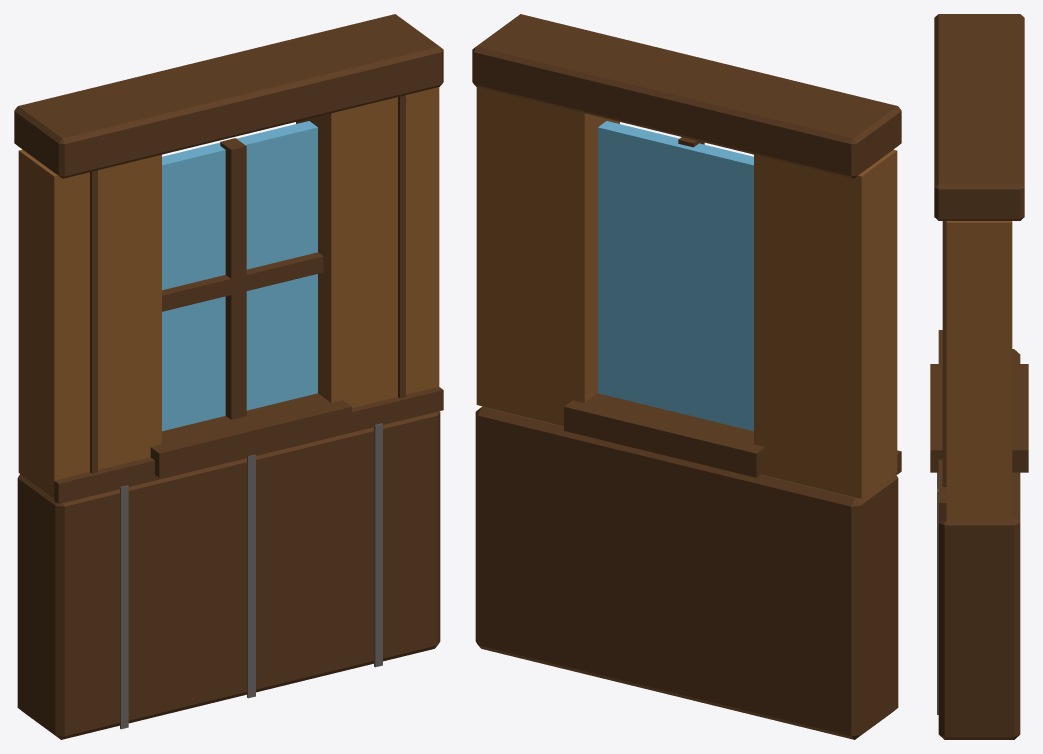
The model's file is PR_Building_Pencere_Lambri.fbx.
The picture shows the model from 3 angles, left to right: view 1: azimuth 30°, elevation 25°; view 2: azimuth 150°, elevation 25°; view 3: azimuth 270°, elevation 25°; orthographic projection. The views are drawn at different scales.
Parts seen in each view (by area): view 1: PR_Building_Pencere_Lambri; view 2: PR_Building_Pencere_Lambri; view 3: PR_Building_Pencere_Lambri.
Part boxes in pixels (box(x1,y1,x2,y2)): PR_Building_Pencere_Lambri: box(14, 14, 443, 739); PR_Building_Pencere_Lambri: box(472, 14, 901, 739); PR_Building_Pencere_Lambri: box(930, 14, 1028, 739).
Bounding box in the file's own units: 1 × 1.5 × 0.24.
